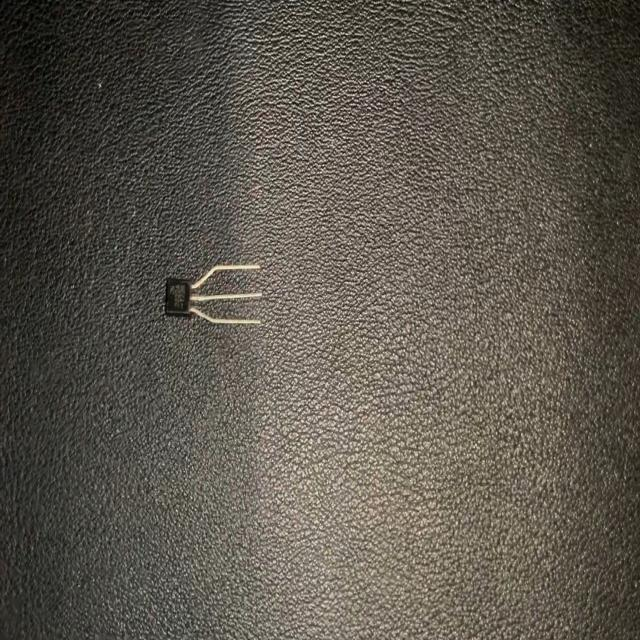BJT: (161, 260, 265, 331)
